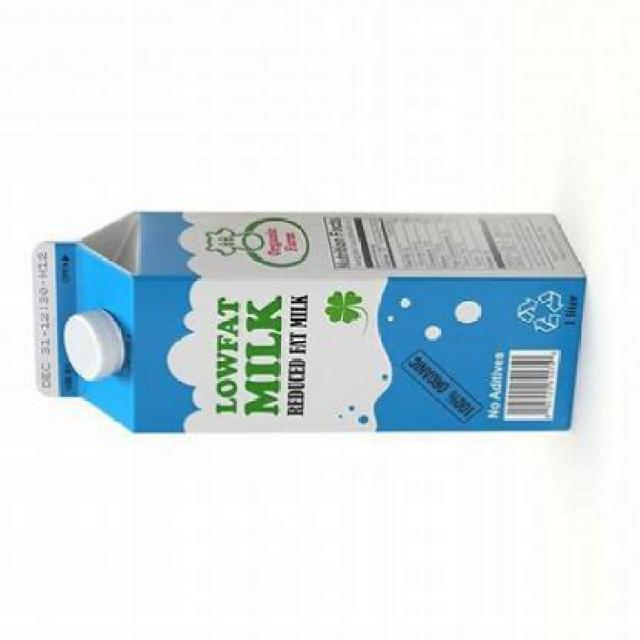non_white_jug: (29, 206, 591, 438)
